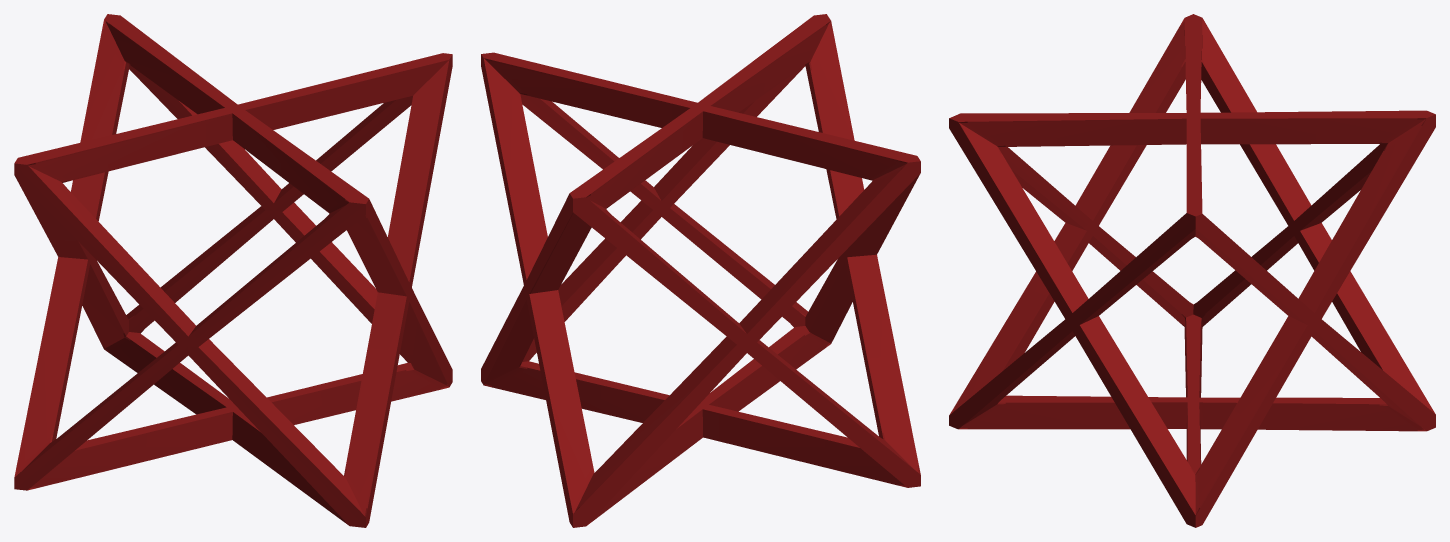
3 views of the same model, side by side, from view 1: azimuth 30°, elevation 25°; view 2: azimuth 150°, elevation 25°; view 3: azimuth 270°, elevation 25° (orthographic). The views are drawn at different scales.
Visible parts, largest first — view 1: Hedra002; view 2: Hedra002; view 3: Hedra002.
Boxes of the visible parts, x1,y1,x2,y2 form: Hedra002: (14,14,452,527); Hedra002: (481,14,920,527); Hedra002: (949,14,1435,527).
Bounding box in the file's own units: 115 × 82.49 × 116.
